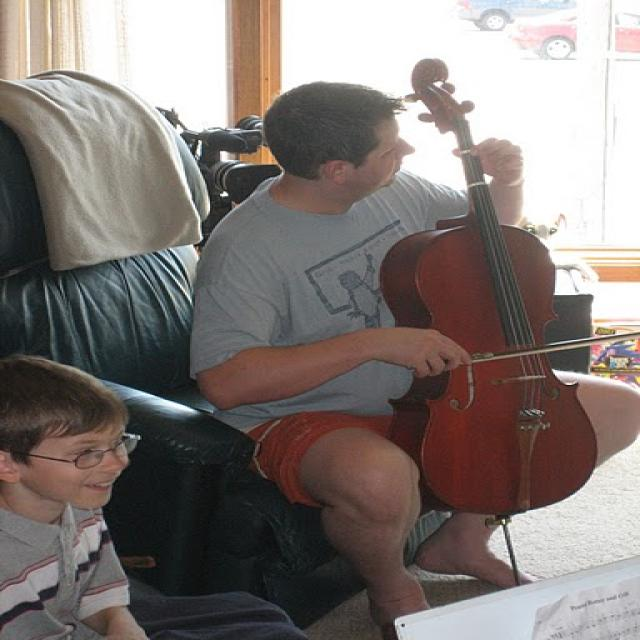cello: (374, 55, 600, 523)
